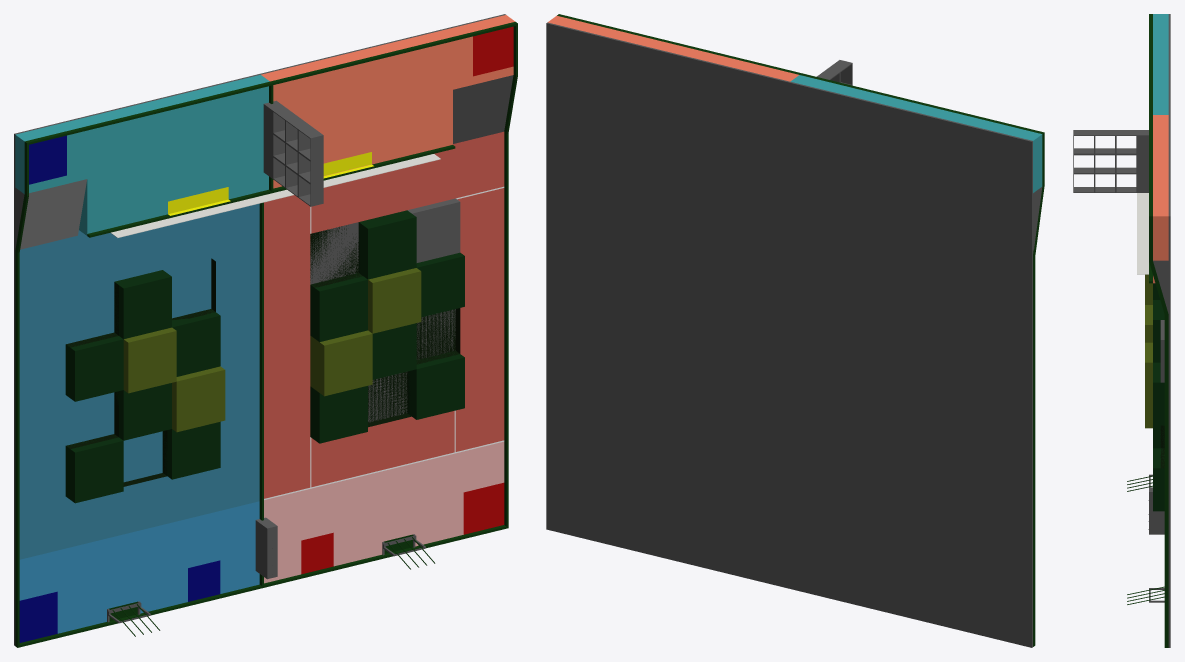
Rendered from robocon_arena.obj.
3 renders of one model, left to right at view 1: azimuth 30°, elevation 25°; view 2: azimuth 150°, elevation 25°; view 3: azimuth 270°, elevation 25°, orthographic. The views are drawn at different scales.
Visible parts, largest first — view 1: obj12, obj7, obj24, obj8, obj3, obj6, obj11, obj10, obj43, obj54, obj13, obj1 (+16 smaller); view 2: obj13, obj43, obj24, obj8; view 3: obj43, obj25, obj8, obj6, obj13, obj24, obj14, obj1, obj9, obj23, obj16, obj5 (+1 smaller).
Boxes of the visible parts, x1,y1,x2,y2 form: obj12: (264, 131, 504, 498); obj7: (19, 203, 259, 558); obj24: (15, 74, 269, 235); obj8: (261, 15, 514, 188); obj3: (65, 270, 220, 503); obj6: (310, 210, 464, 443); obj11: (19, 501, 259, 633); obj10: (264, 441, 504, 583); obj43: (15, 21, 517, 647); obj54: (19, 215, 259, 559); obj13: (14, 14, 505, 645); obj1: (310, 268, 421, 396); obj13: (546, 22, 1032, 647); obj43: (557, 14, 1044, 646); obj24: (791, 75, 1042, 192); obj8: (548, 15, 798, 81); obj43: (1149, 14, 1168, 647); obj25: (1073, 130, 1148, 192); obj8: (1153, 115, 1168, 283); obj6: (1153, 300, 1164, 511); obj13: (1168, 14, 1170, 647); obj24: (1153, 14, 1168, 114); obj14: (1137, 193, 1148, 274); obj1: (1145, 342, 1152, 428); obj9: (1145, 274, 1152, 342); obj23: (1148, 487, 1164, 534); obj16: (1153, 260, 1168, 313); obj5: (1160, 320, 1164, 382).
Size of the model in its own units: 12.15 by 12.1 by 2.47.
